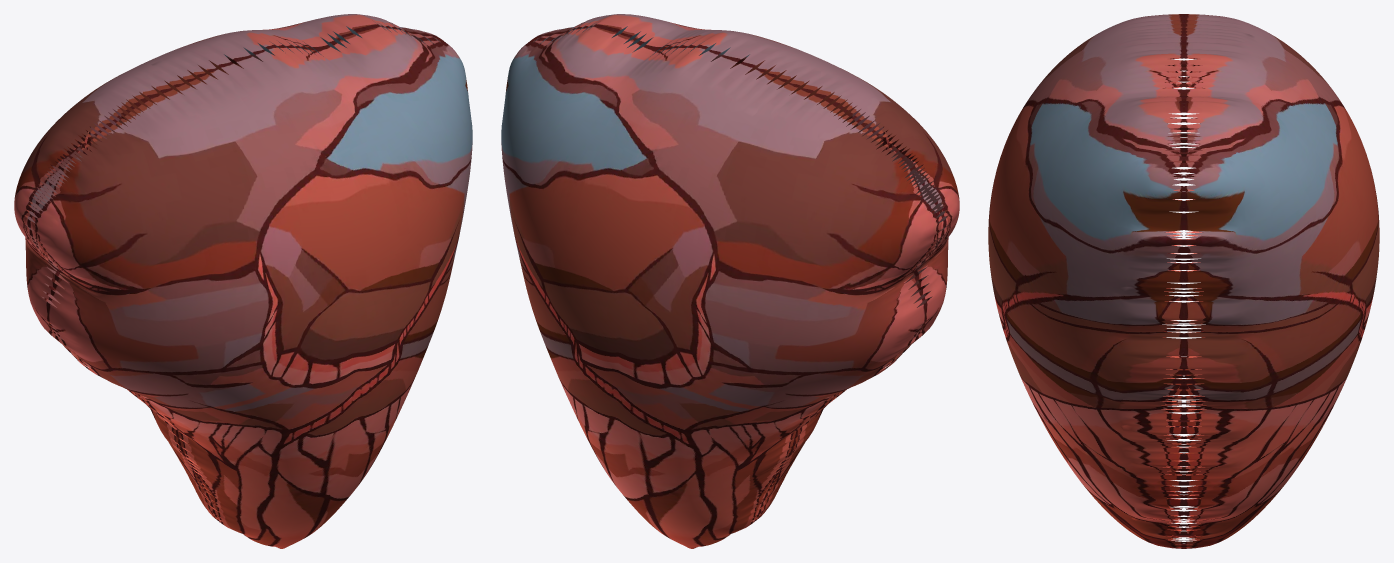
The model's file is east_cliff.glb.
The picture shows the model from 3 angles, left to right: view 1: azimuth 30°, elevation 25°; view 2: azimuth 150°, elevation 25°; view 3: azimuth 270°, elevation 25°; orthographic projection.
Parts seen in each view (by area): view 1: east_cliff; view 2: east_cliff; view 3: east_cliff.
Boxes of the visible parts, x1=… form: east_cliff: x1=14, y1=14, x2=472, y2=548; east_cliff: x1=501, y1=14, x2=959, y2=548; east_cliff: x1=988, y1=14, x2=1379, y2=548.
Bounding box in the file's own units: 0.9877 × 1.09 × 0.7889.
1 material, 1 textured.
